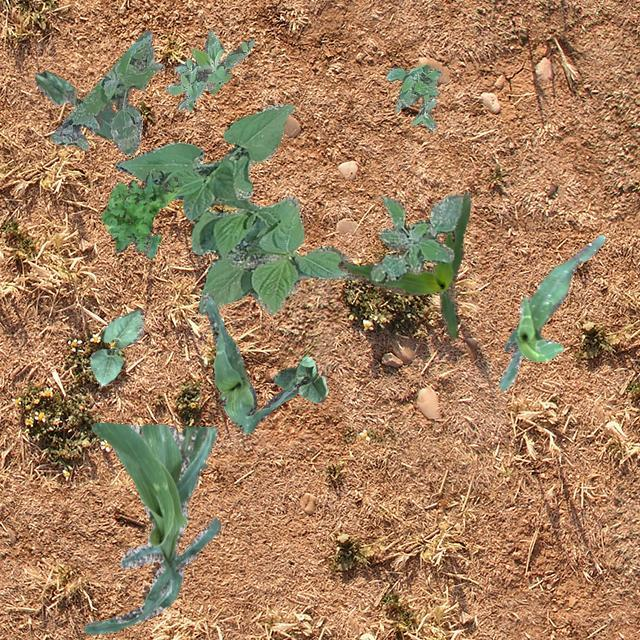crop: (114, 103, 354, 314), (82, 422, 220, 634), (336, 190, 471, 338), (498, 234, 604, 390), (202, 292, 298, 432), (34, 70, 116, 138), (89, 308, 142, 386), (274, 356, 326, 402)
weed: (48, 30, 162, 154), (369, 192, 462, 282), (164, 29, 254, 110), (100, 170, 182, 258), (386, 64, 440, 130)
